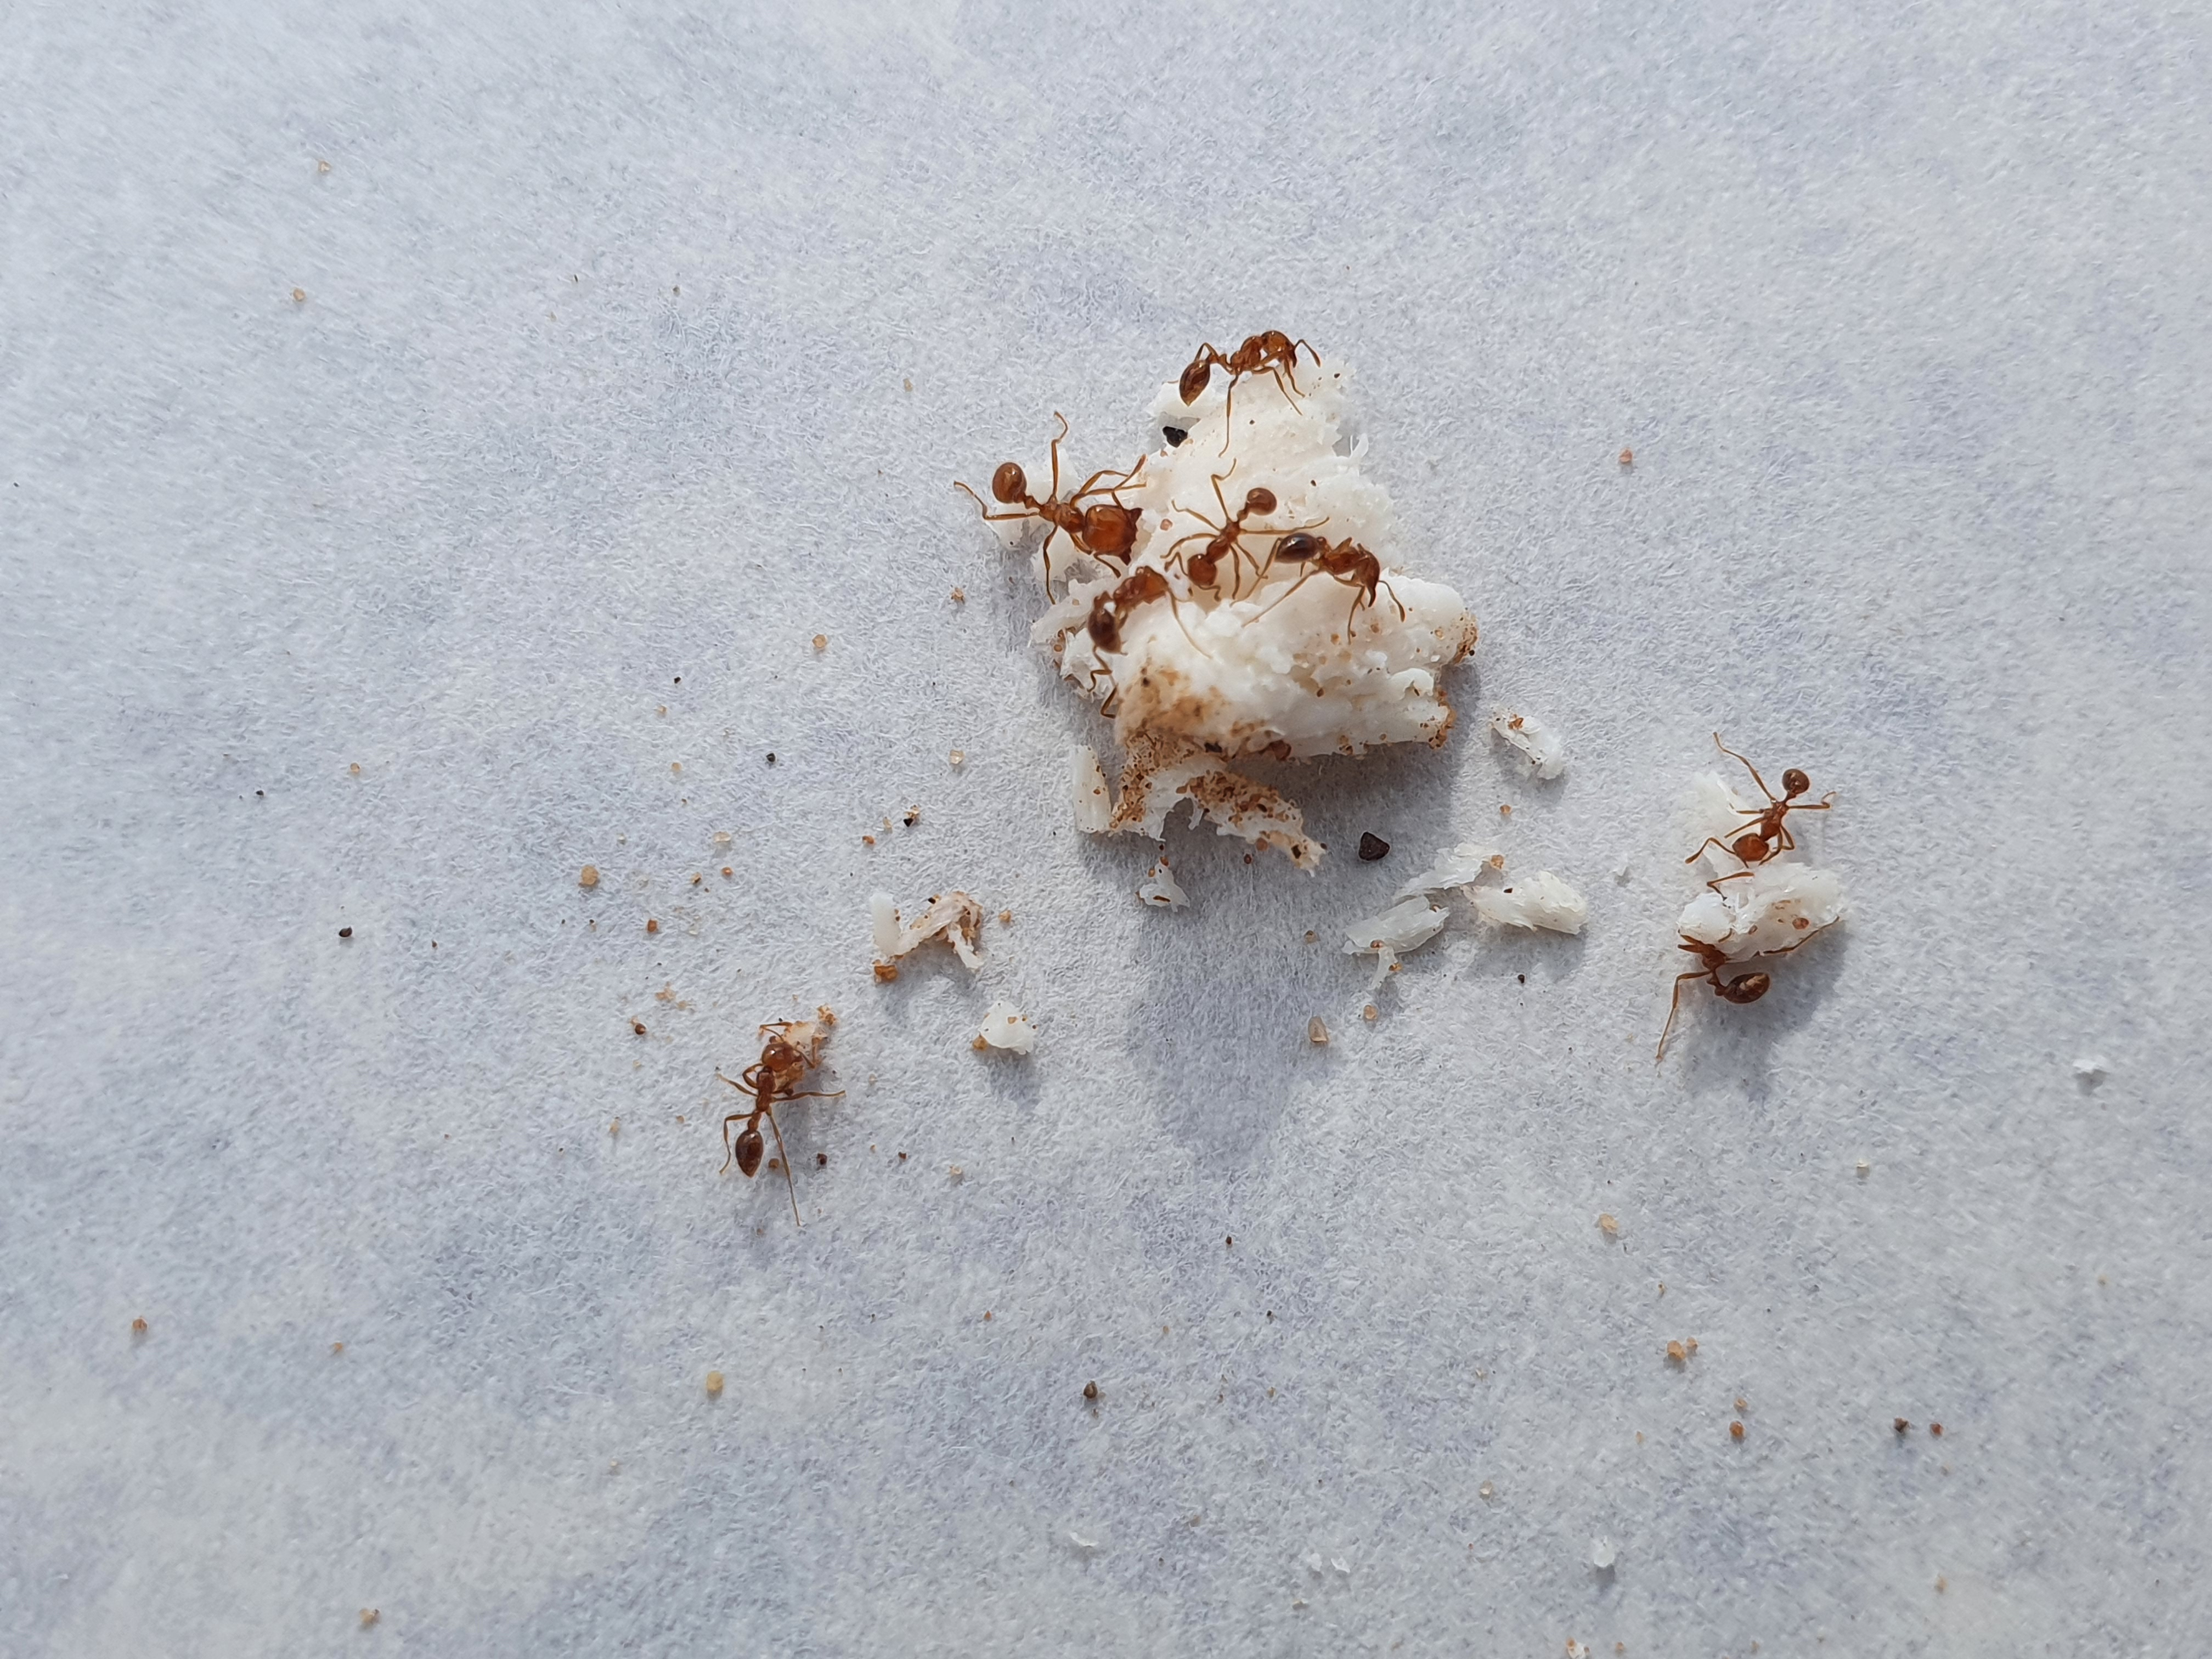Solenopsis_geminata: (683, 978, 867, 1249), (932, 389, 1158, 598), (1622, 889, 1855, 1091), (1665, 716, 1853, 920), (1144, 301, 1350, 479), (1264, 504, 1426, 660), (1167, 444, 1282, 612)
